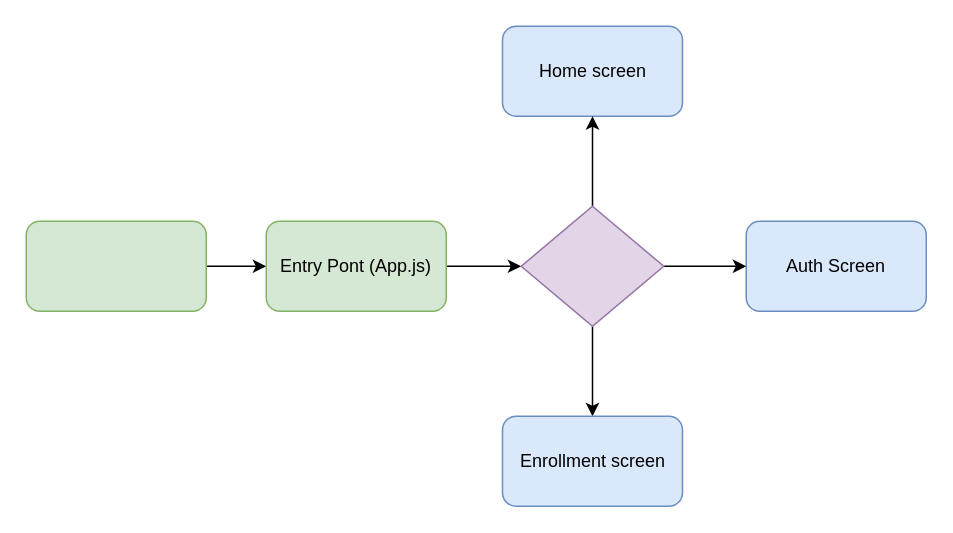
Some shapes in this 953 by 533 pixel diagram are drawn without their labels. The centre of each missing label's shape, as x and y in pixels:
"Router" belongs at (592,265).
"Web server" belongs at (115,265).
